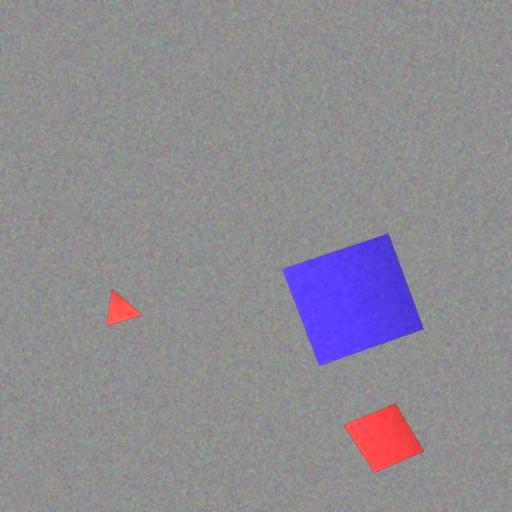BLUE_SQUARE: (282, 233, 424, 366)
RED_SQUARE: (343, 402, 425, 474)
